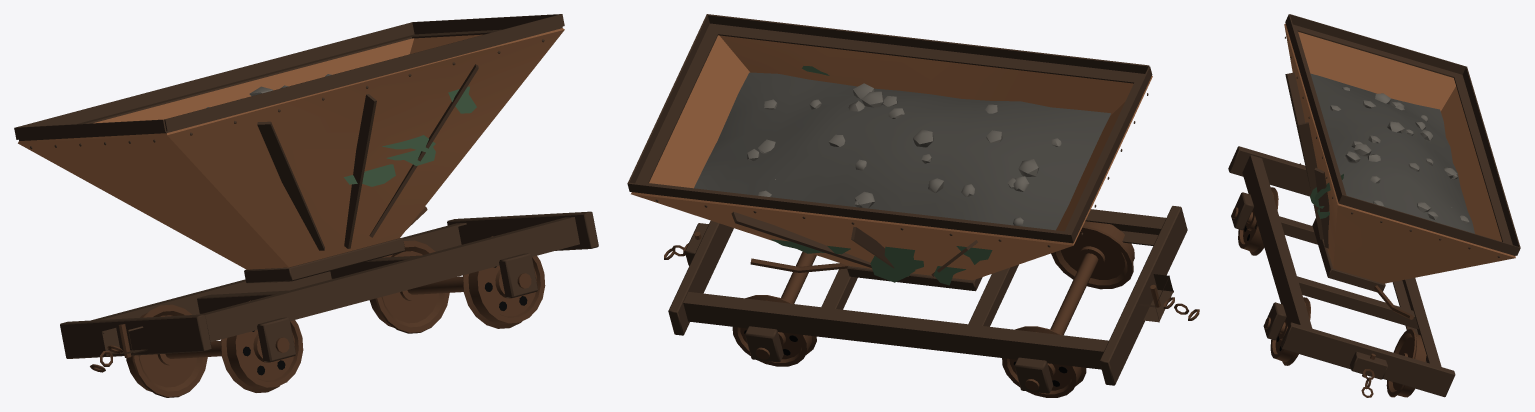
File: hopper_wagon.glb
3 views of the same model, side by side, from view 1: azimuth 30°, elevation 25°; view 2: azimuth 150°, elevation 25°; view 3: azimuth 270°, elevation 25° (orthographic). The views are drawn at different scales.
Parts seen in each view (by area): view 1: trichterwagen3, trichterwagen0, trichterwagen1, trichterwagen6; view 2: trichterwagen0, trichterwagen4, trichterwagen3, trichterwagen1, trichterwagen5, trichterwagen6; view 3: trichterwagen0, trichterwagen3, trichterwagen4, trichterwagen1, trichterwagen5, trichterwagen6.
Part boxes in pixels (x1,y1,x2,y2): trichterwagen3: (18,28,564,269); trichterwagen0: (14,14,598,362); trichterwagen1: (90,206,545,397); trichterwagen6: (344,86,476,186); trichterwagen0: (627,14,1187,393); trichterwagen4: (694,72,1110,230); trichterwagen3: (631,35,1152,280); trichterwagen1: (664,221,1199,397); trichterwagen5: (747,83,1061,225); trichterwagen6: (771,66,992,285); trichterwagen0: (1228,14,1520,397); trichterwagen3: (1284,23,1515,283); trichterwagen4: (1310,73,1474,233); trichterwagen1: (1231,187,1426,397); trichterwagen5: (1330,86,1469,224); trichterwagen6: (1310,174,1343,218).
Bounding box in the file's own units: 2.17 × 1.35 × 1.37.
